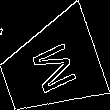M_W: (24, 36, 78, 98)
